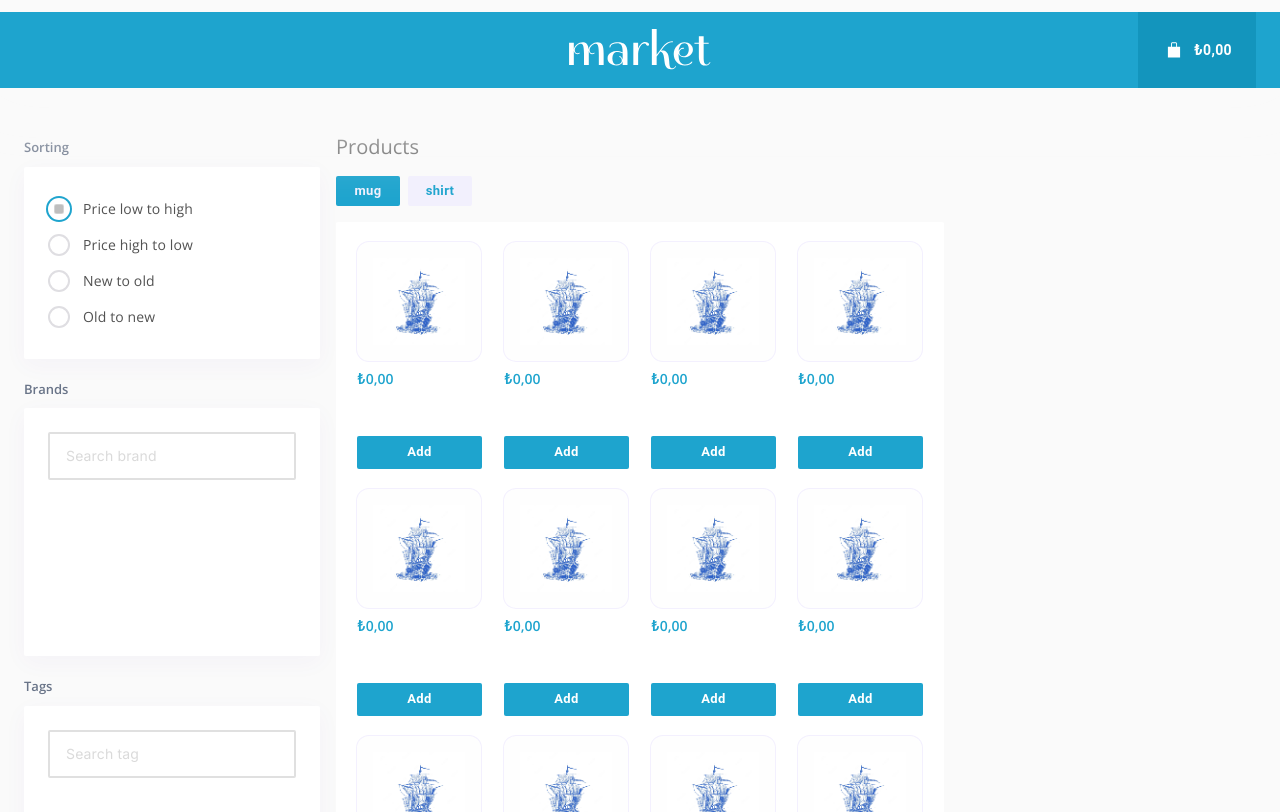
Test case: Add product from product grid › can remove from product list
Click the button with class "cart-button": {"x": 1197, "y": 50} [1138,12,1256,88]
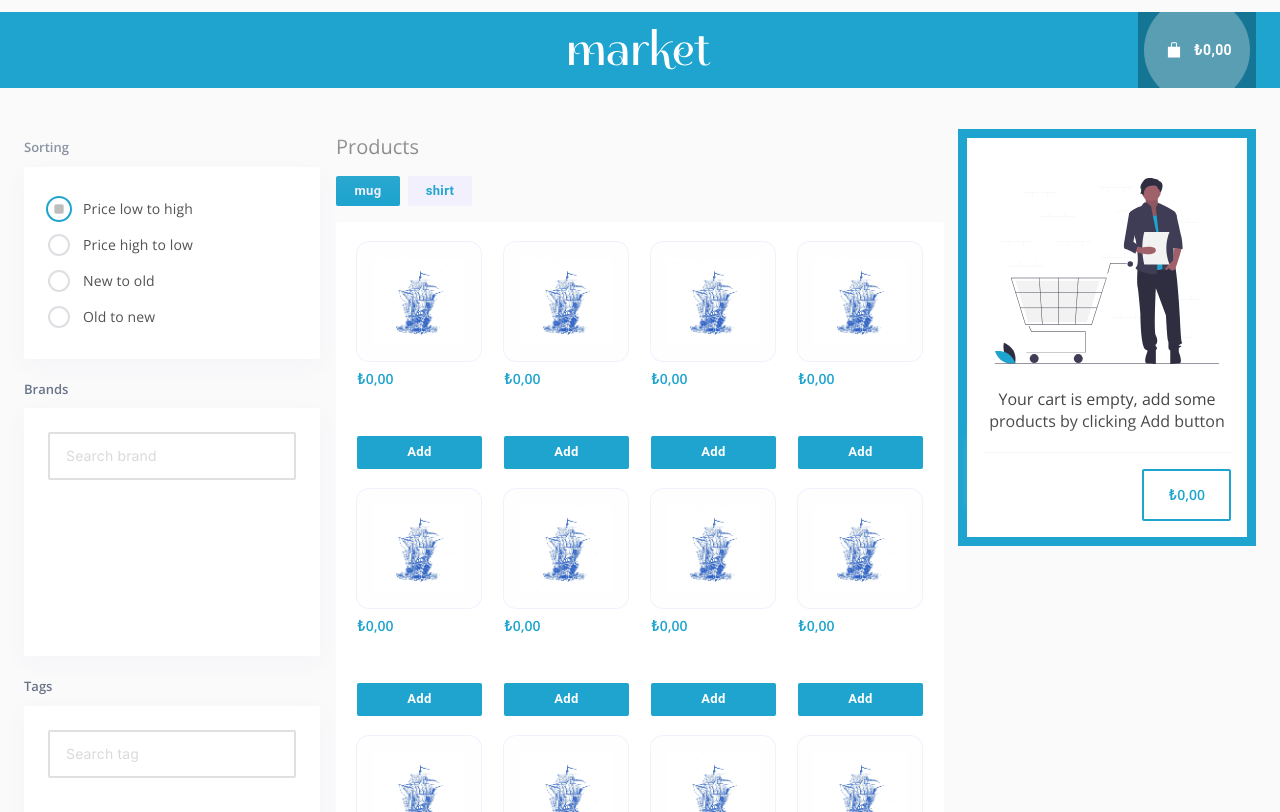
Now the element with class "EmptyCart" is shown, box [983,154,1231,432]
Click the 1st button "Add": {"x": 420, "y": 453} [357,436,482,469]
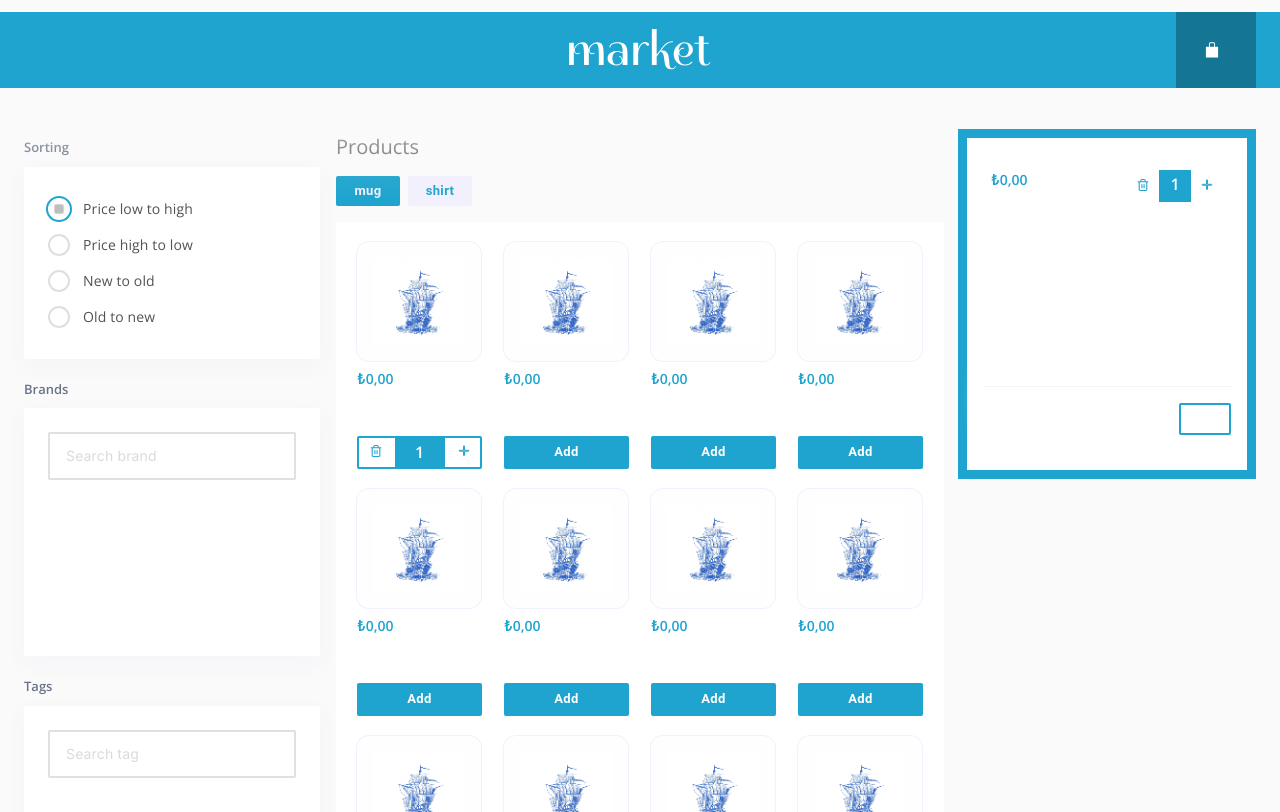
Now the element with class "CartItem" is shown, box [991,170,1223,202]
Click the button with class "IconButton" below "Products": {"x": 376, "y": 453} [362,438,390,467]
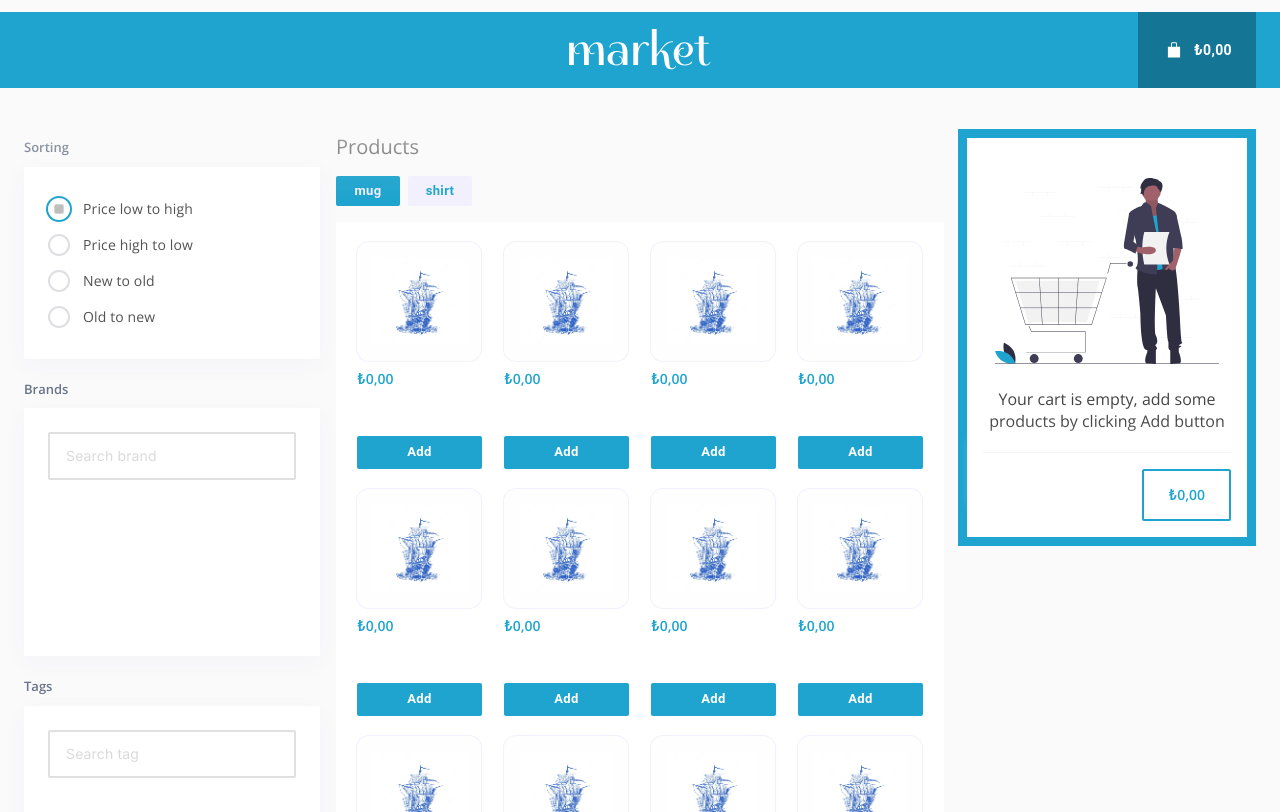
Now the element with class "EmptyCart" is shown, box [983,154,1231,432]
Now the 1st button "Add" is shown, box [357,436,482,469]
